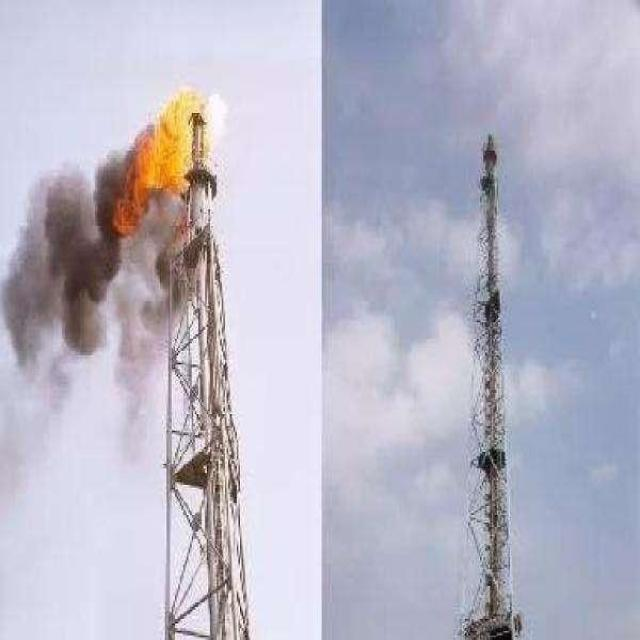Fire: (114, 83, 225, 232)
Smoke: (1, 120, 186, 457)
